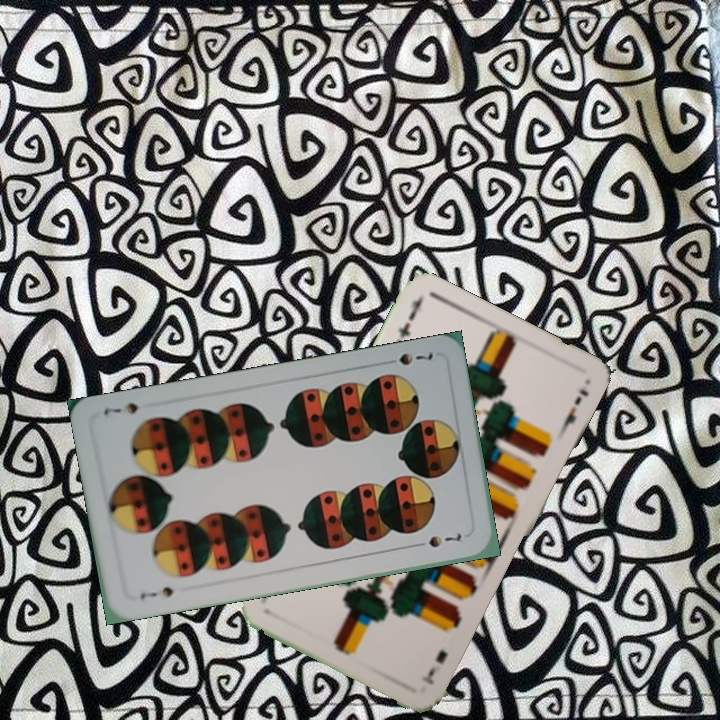E7: (390, 294, 425, 350), (419, 646, 450, 687)
S7: (380, 349, 436, 368), (136, 582, 176, 602)
